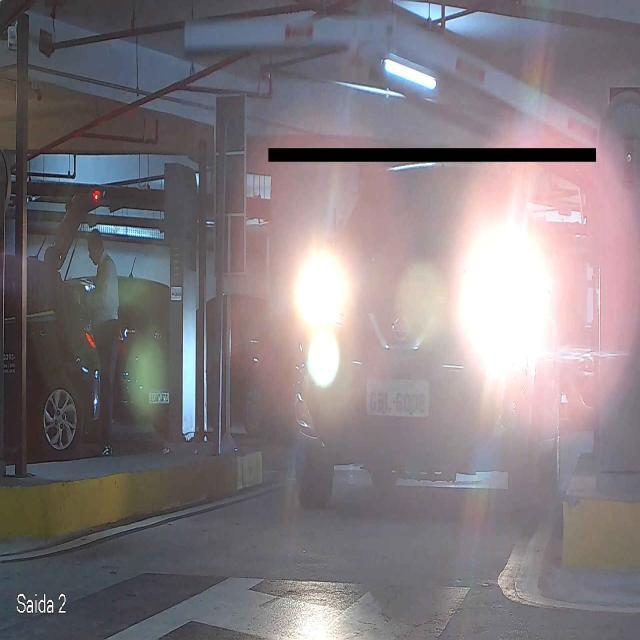old_plate: (362, 374, 434, 418)
